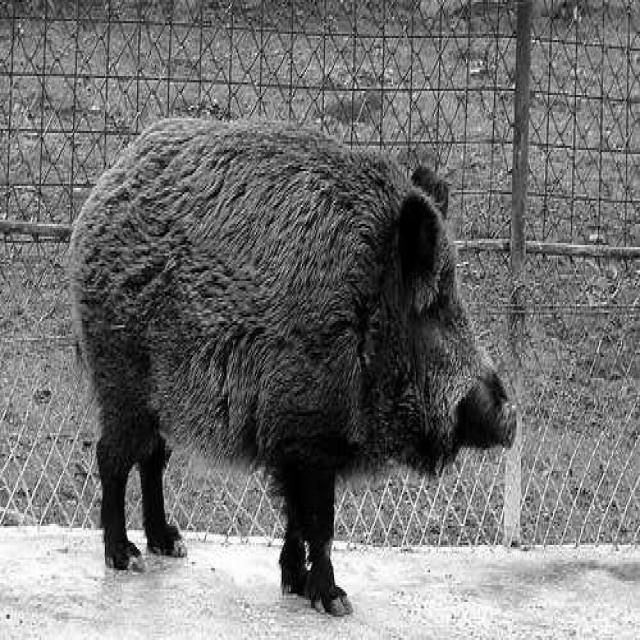boar: (69, 118, 516, 616)
